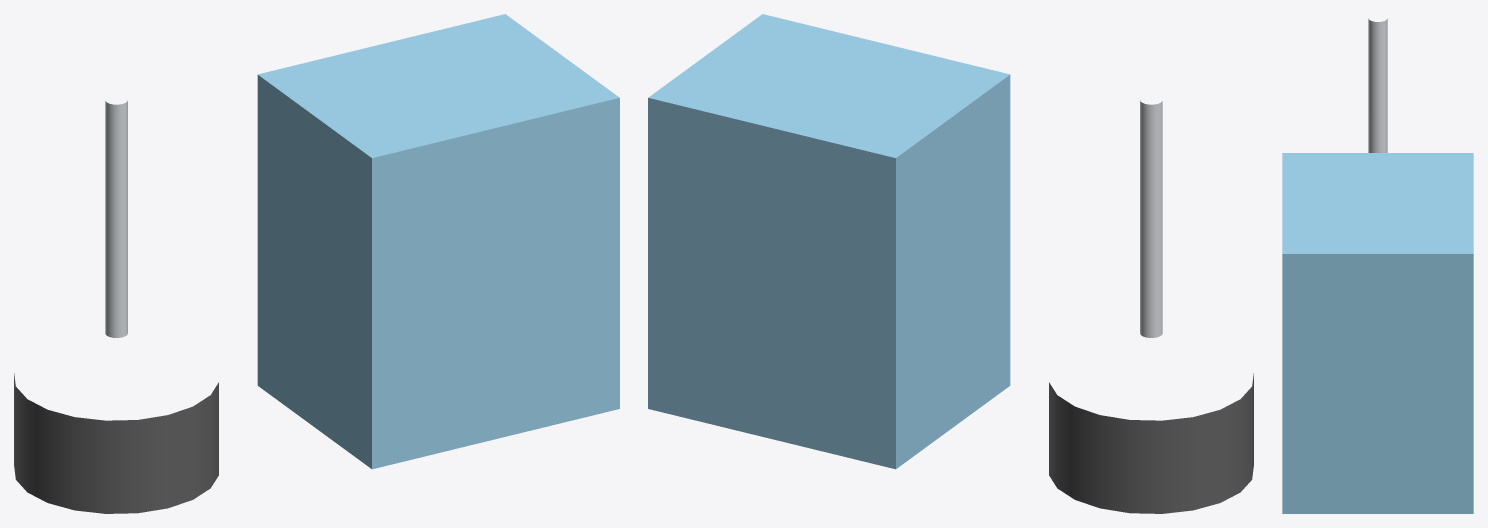
The model's file is bitumen_penetration_softening_ductility.glb.
3 renders of one model, left to right at view 1: azimuth 30°, elevation 25°; view 2: azimuth 150°, elevation 25°; view 3: azimuth 270°, elevation 25°, orthographic. The views are drawn at different scales.
Parts seen in each view (by area): view 1: RingAndBallSofteningBathFrame, BitumenSampleContainerCup, PenetrometerStandardNeedleShaft; view 2: RingAndBallSofteningBathFrame, BitumenSampleContainerCup, PenetrometerStandardNeedleShaft; view 3: RingAndBallSofteningBathFrame, PenetrometerStandardNeedleShaft.
Boxes of the visible parts, box(x1,y1,x2,y2) form: RingAndBallSofteningBathFrame: box(257, 14, 619, 469); BitumenSampleContainerCup: box(14, 373, 218, 513); PenetrometerStandardNeedleShaft: box(105, 100, 127, 337); RingAndBallSofteningBathFrame: box(648, 14, 1010, 469); BitumenSampleContainerCup: box(1049, 373, 1253, 513); PenetrometerStandardNeedleShaft: box(1140, 100, 1162, 337); RingAndBallSofteningBathFrame: box(1282, 153, 1473, 513); PenetrometerStandardNeedleShaft: box(1368, 18, 1387, 152).
Size of the model in its own units: 1.08 by 0.725 by 0.4.
